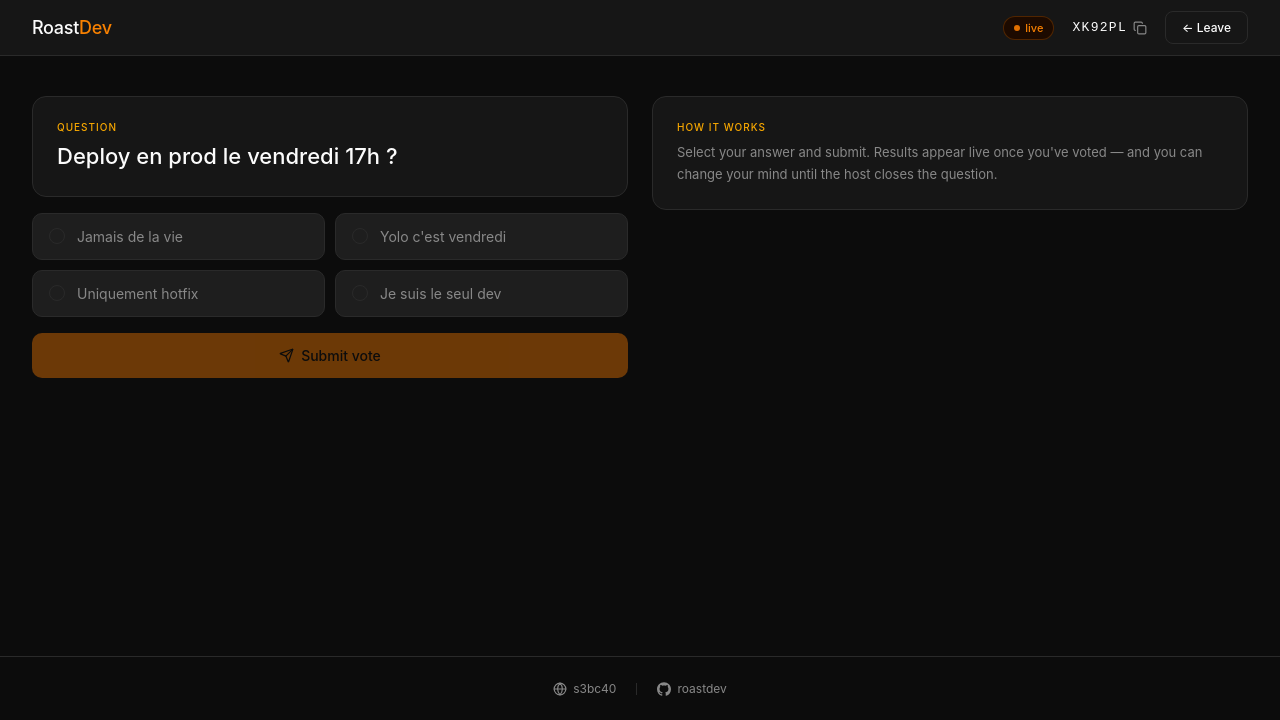
Participant › waiting phase shows the voted answer in the pill
The image size is (1280, 720).
Click the text "Jamais de la vie" at [178, 236], box [32,213,325,260]
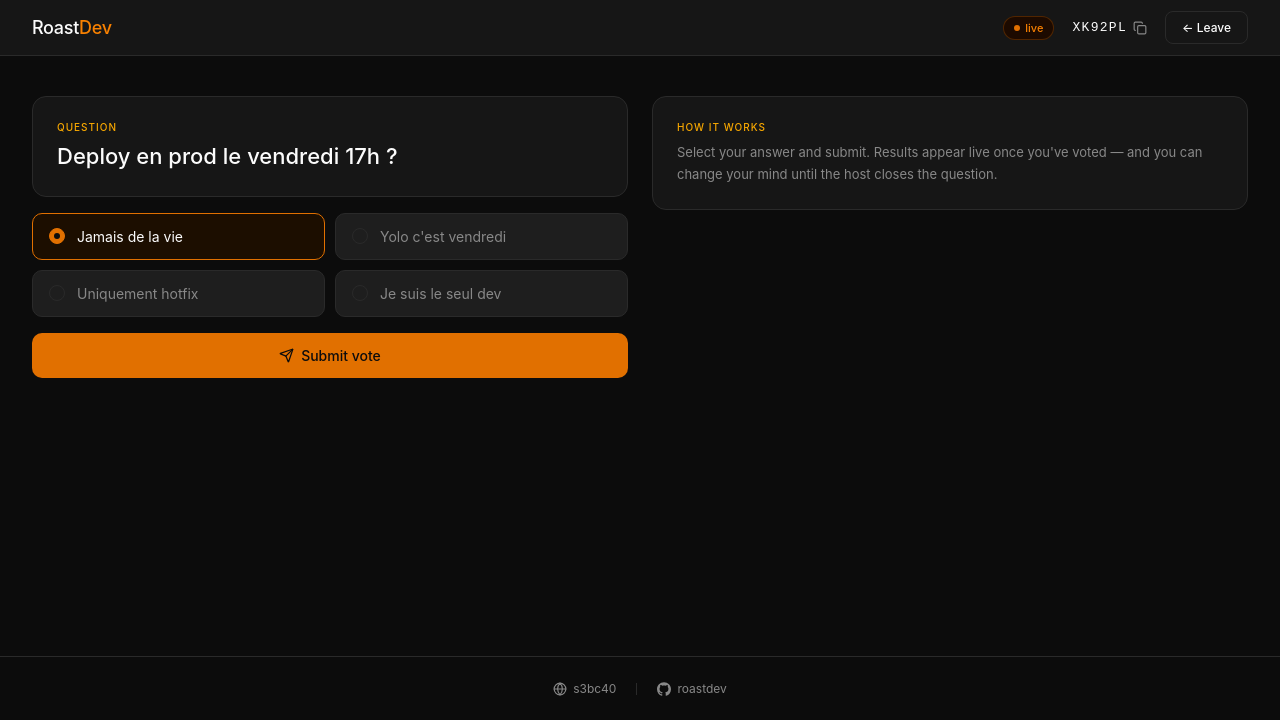
Click the button "Submit vote" at [330, 355], box [32,333,628,378]
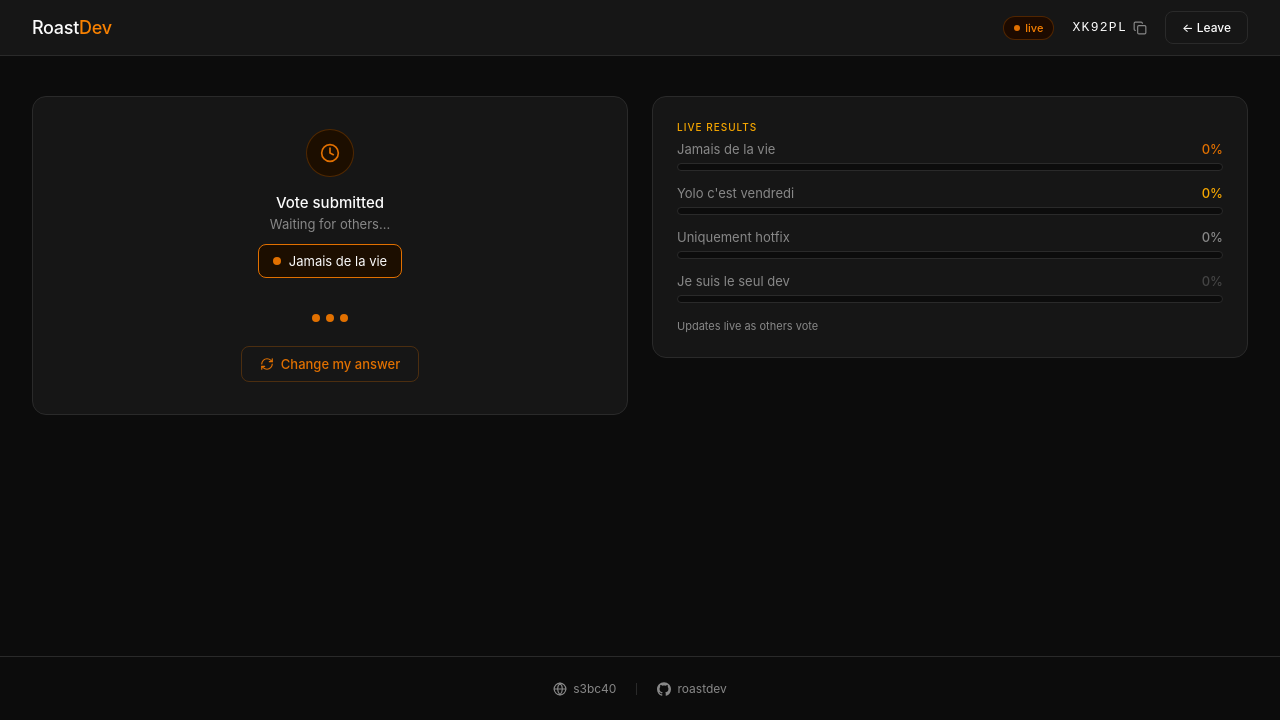
Check: the text "Jamais de la vie" below "Waiting for others…" is shown, box [289,253,387,269]
